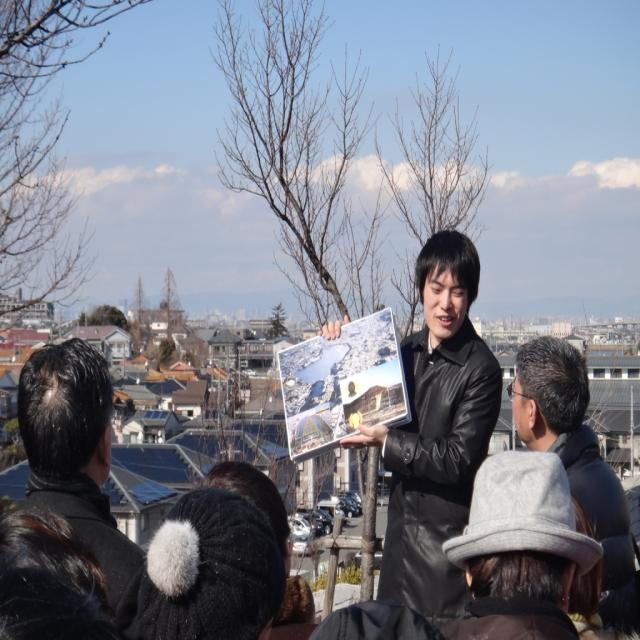Hat: (441, 452, 603, 577)
